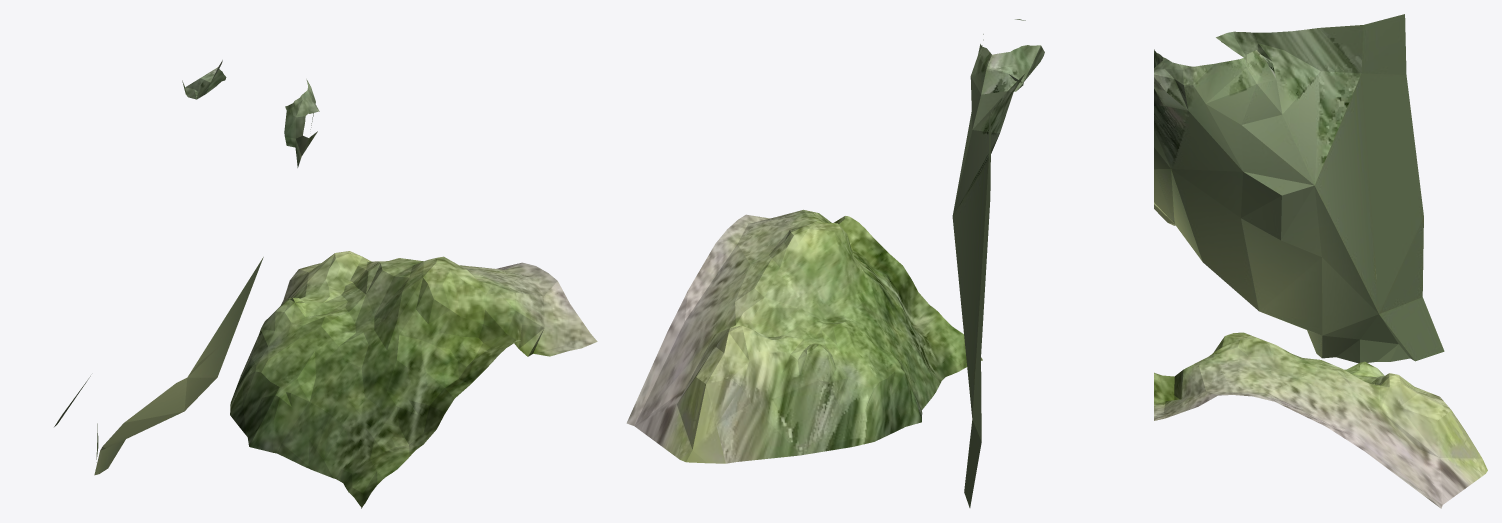
3 renders of one model, left to right at view 1: azimuth 30°, elevation 25°; view 2: azimuth 150°, elevation 25°; view 3: azimuth 270°, elevation 25°, orthographic. The views are drawn at different scales.
Size of the model in its own units: 5.9 by 5.9 by 5.29.
Materials: 3 (3 with a texture image).
